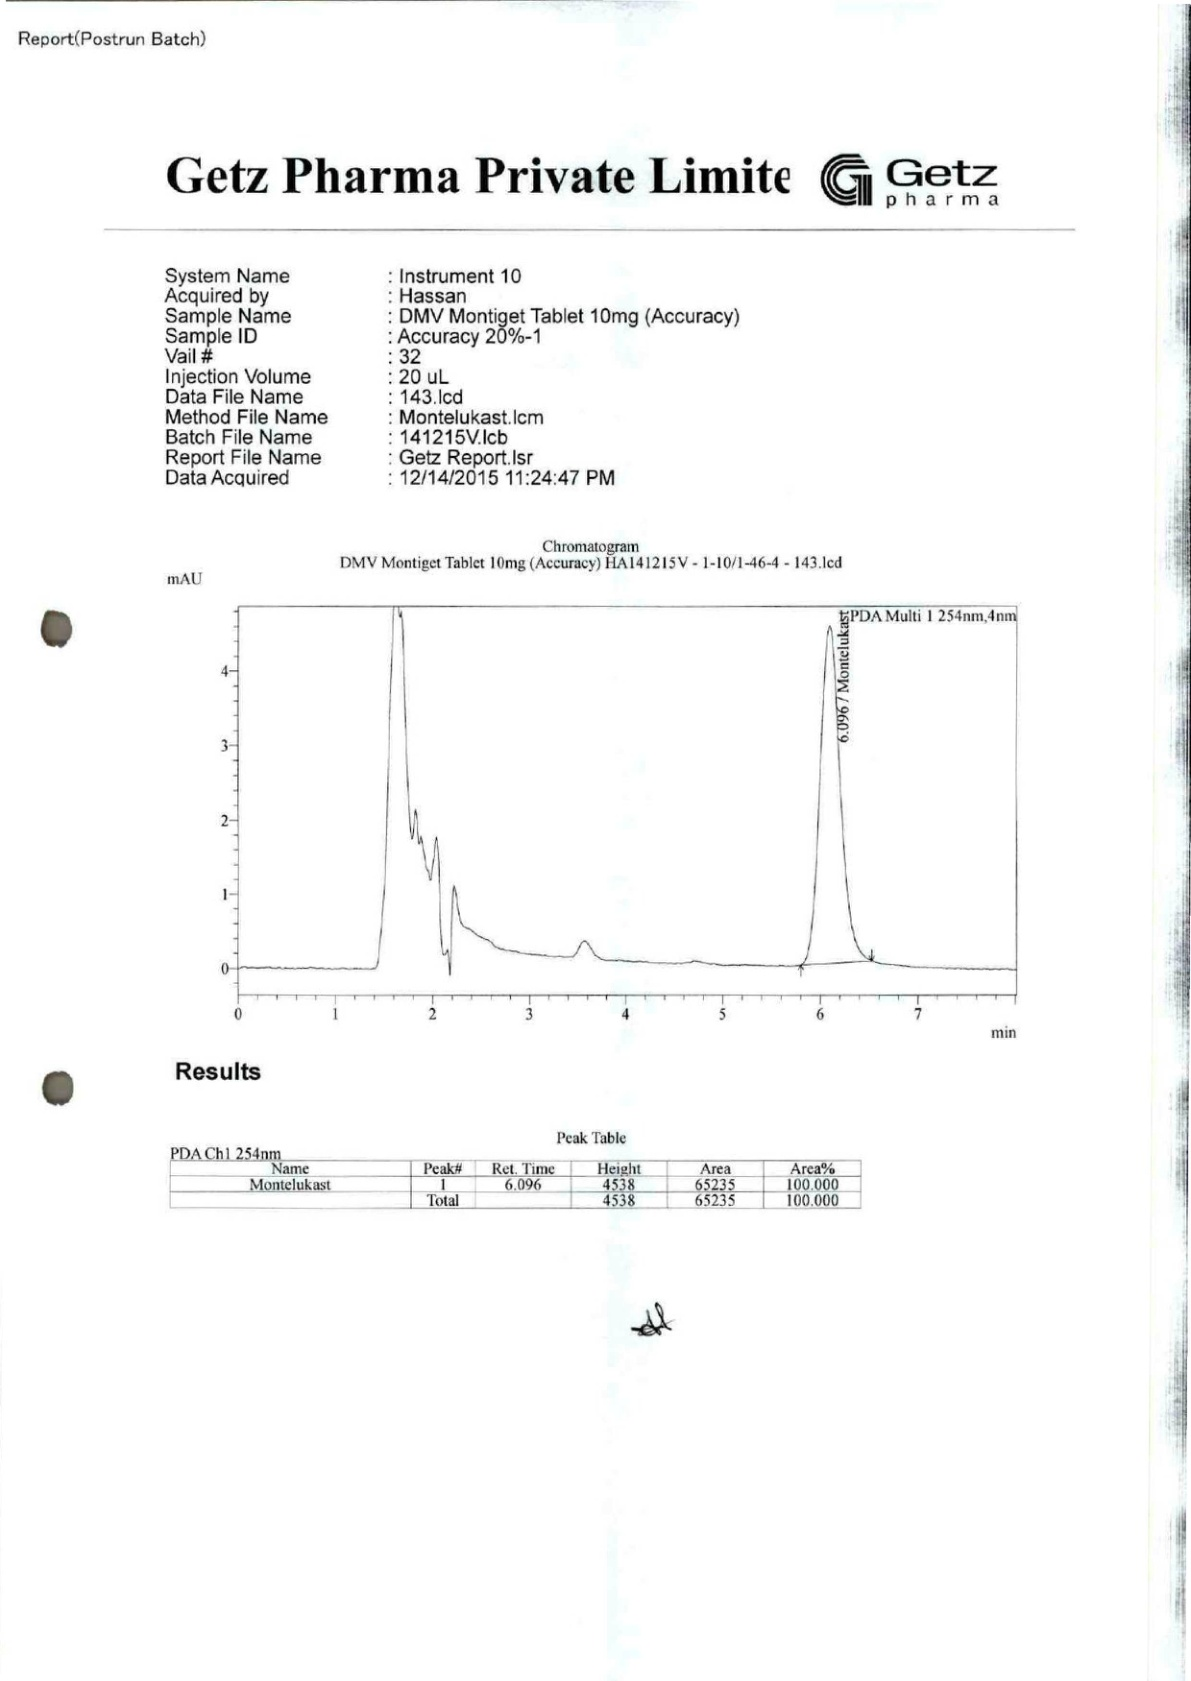full_lined: (169, 1158, 864, 1210)
nolines: (160, 262, 745, 491)
